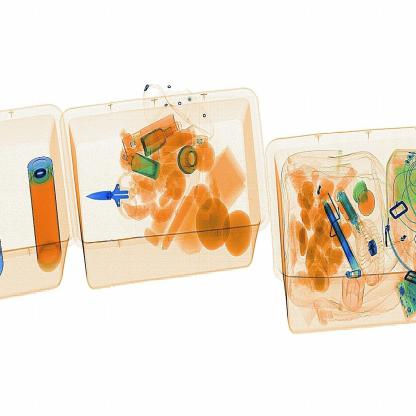gun: (82, 166, 148, 226)
